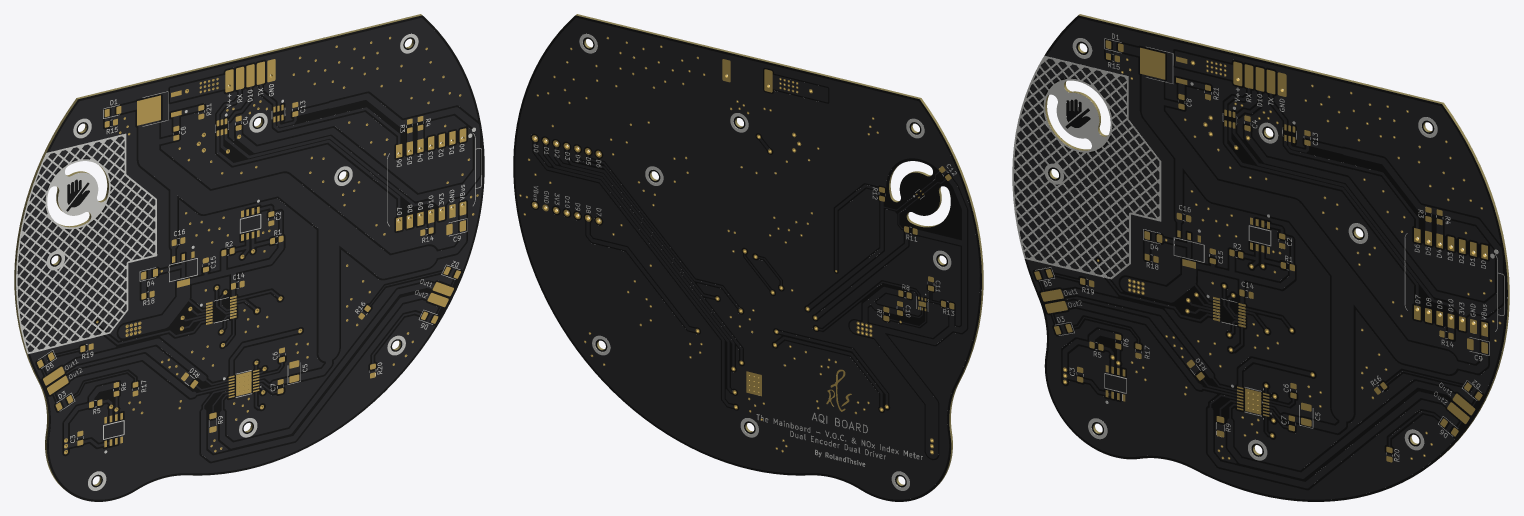
Rendered from TheMainBoard_VOC_PCB_Compressed.glb.
The picture shows the model from 3 angles, left to right: view 1: azimuth 30°, elevation 25°; view 2: azimuth 150°, elevation 25°; view 3: azimuth 330°, elevation 25°; orthographic projection. The views are drawn at different scales.
Parts seen in each view (by area): view 1: Top Mask over Copper, Top Solder Mask, Top Silkscreen, Copper_GND, Board_dielectric 1, Copper_+3V3, Copper_/protected_5V; view 2: Bottom Mask over Copper, Bottom Solder Mask, Bottom Silkscreen, Board_dielectric 1, Copper_GND, Copper_+3V3; view 3: Top Mask over Copper, Top Solder Mask, Top Silkscreen, Copper_GND, Board_dielectric 1, Copper_+3V3, Copper_/protected_5V.
Part boxes in pixels (<box>): Top Mask over Copper: <box>18,18,482,499</box>; Top Solder Mask: <box>16,15,484,501</box>; Top Silkscreen: <box>16,34,481,490</box>; Copper_GND: <box>77,36,478,452</box>; Board_dielectric 1: <box>14,14,421,490</box>; Copper_+3V3: <box>64,111,444,454</box>; Copper_/protected_5V: <box>116,95,466,384</box>; Bottom Mask over Copper: <box>515,18,979,499</box>; Bottom Solder Mask: <box>513,15,981,501</box>; Bottom Silkscreen: <box>533,33,956,490</box>; Board_dielectric 1: <box>576,14,983,490</box>; Copper_GND: <box>519,36,945,452</box>; Copper_+3V3: <box>553,134,954,454</box>; Top Mask over Copper: <box>1014,18,1505,499</box>; Top Solder Mask: <box>1014,15,1507,501</box>; Top Silkscreen: <box>1012,33,1504,461</box>; Copper_GND: <box>1077,55,1501,462</box>; Board_dielectric 1: <box>1045,14,1509,462</box>; Copper_+3V3: <box>1063,121,1465,398</box>; Copper_/protected_5V: <box>1118,43,1487,426</box>.
Size of the model in its own units: 0.112 by 0.094 by 0.000823.
